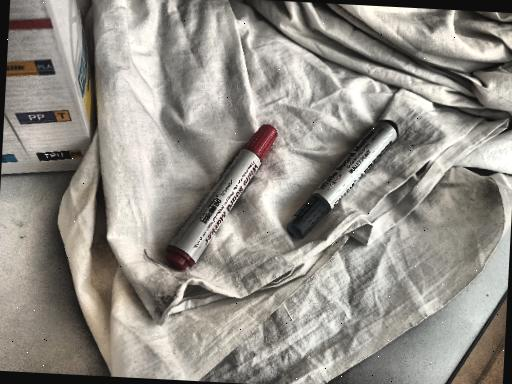marcador negro: (286, 120, 397, 239)
marcador rojo: (166, 124, 277, 270)
